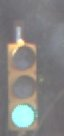Green: (5, 38, 46, 131)
